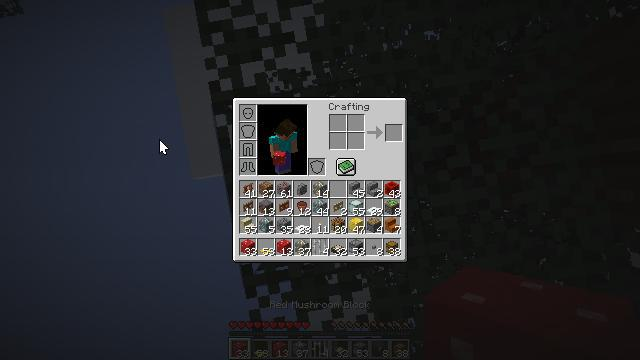cursor: (159, 139, 169, 155)
